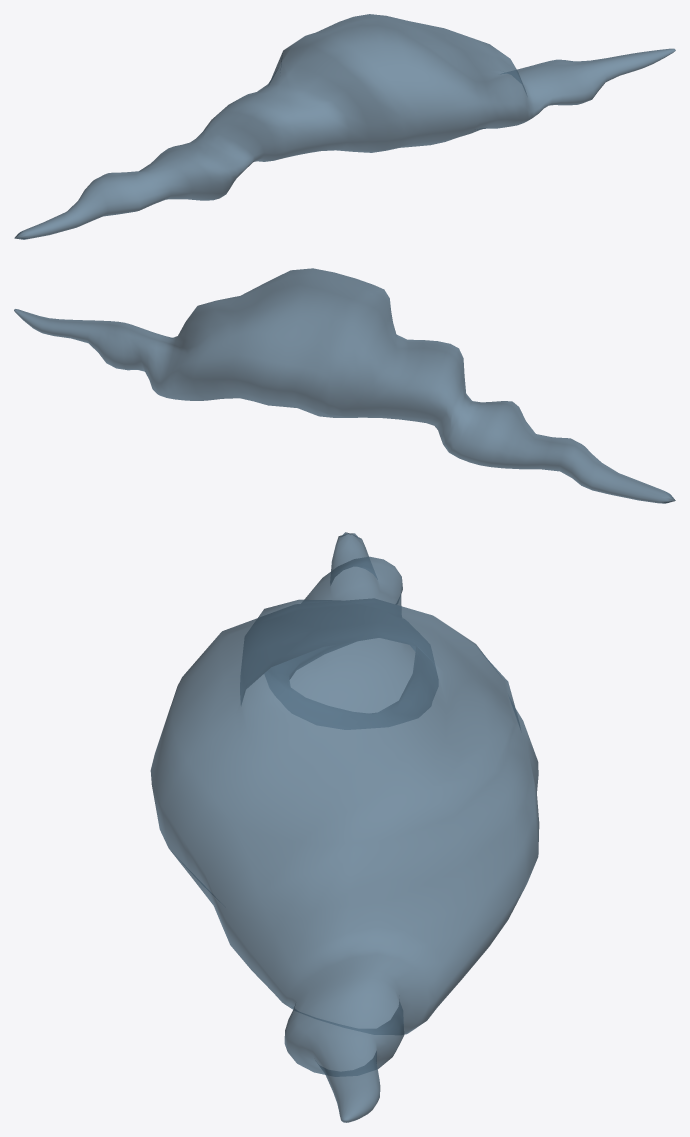
Rendered from cloud3.fbx.
3 views of the same model, one above another, from view 1: azimuth 30°, elevation 25°; view 2: azimuth 150°, elevation 25°; view 3: azimuth 270°, elevation 25° (orthographic). The views are drawn at different scales.
Parts seen in each view (by area): view 1: Cloud_MG3; view 2: Cloud_MG3; view 3: Cloud_MG3.
Part boxes in pixels (left/top/right/bottom): Cloud_MG3: left=14, top=14, right=675, bottom=239; Cloud_MG3: left=14, top=268, right=675, bottom=503; Cloud_MG3: left=150, top=532, right=539, bottom=1122.
Size of the model in its own units: 385 by 73.71 by 98.25.
